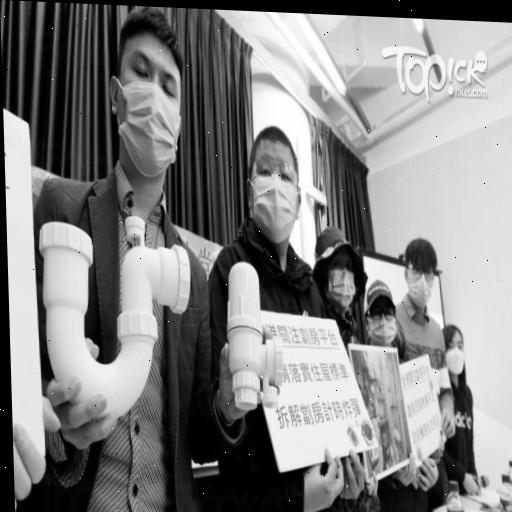mask: (102, 5, 193, 184), (239, 116, 307, 251), (309, 218, 369, 316), (399, 229, 443, 313), (362, 274, 402, 349), (439, 318, 469, 382)
